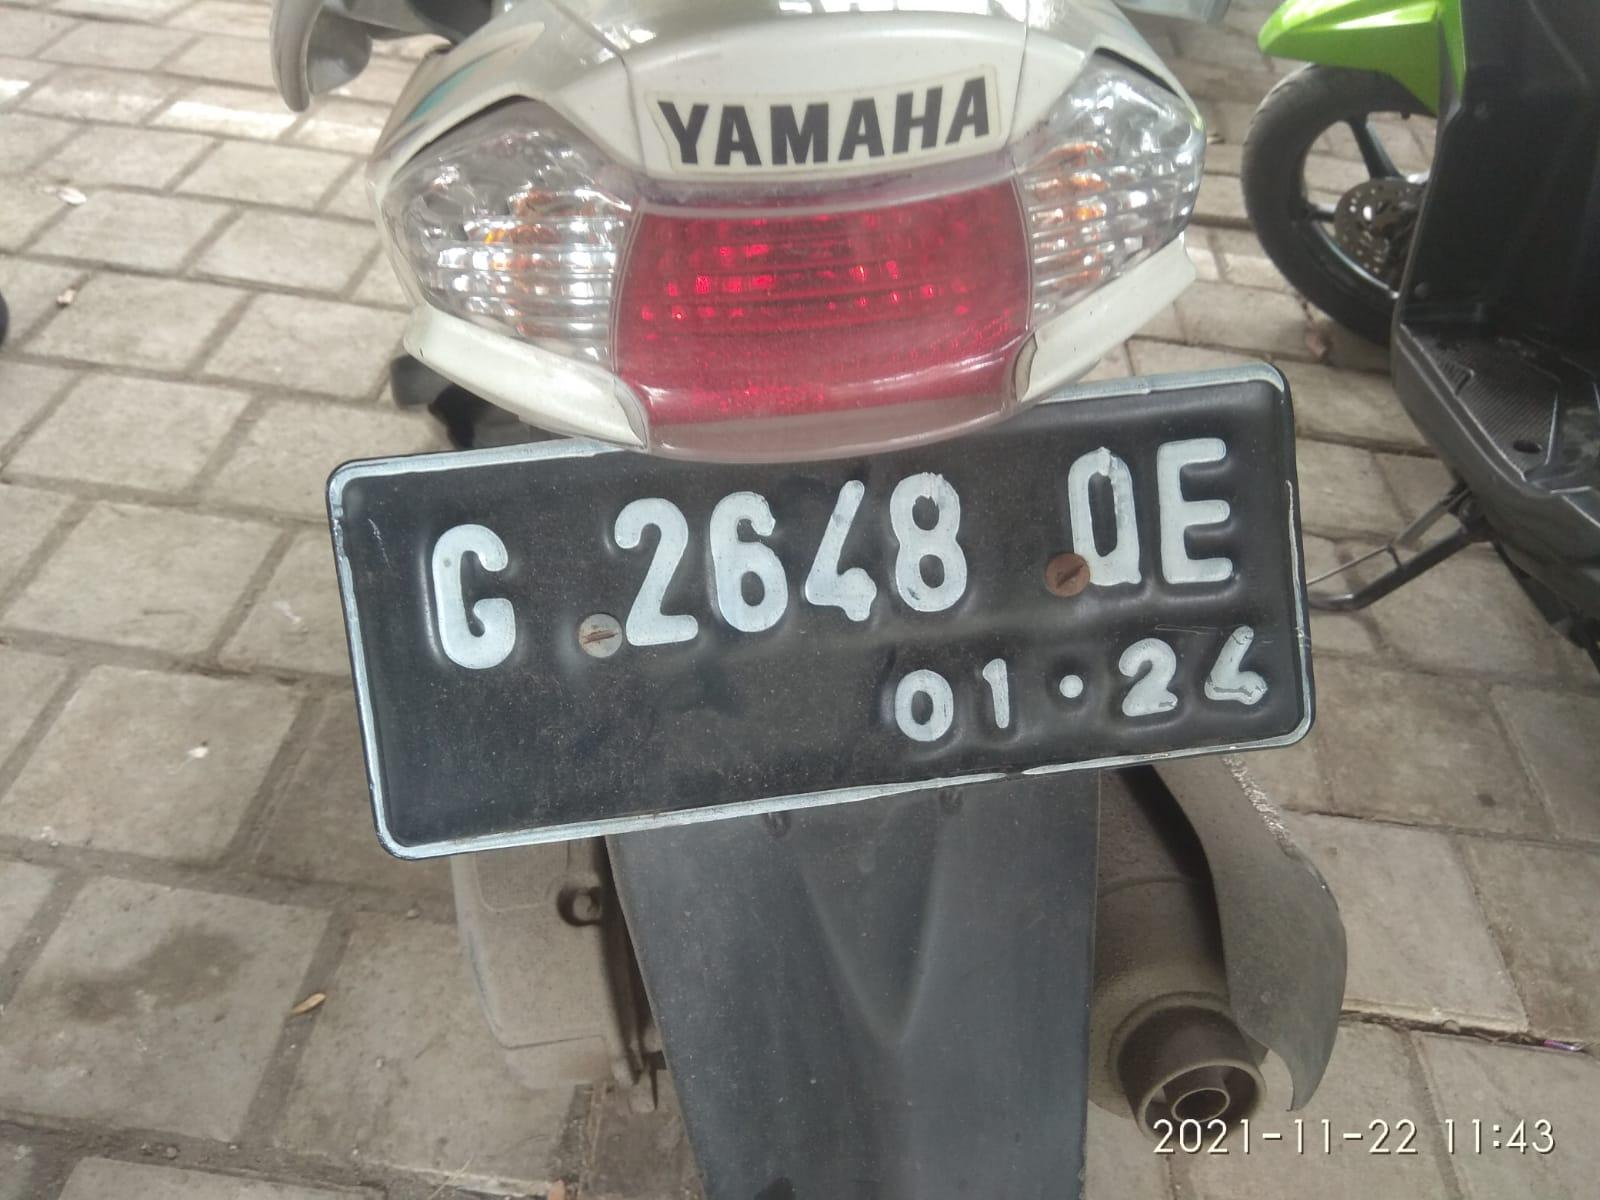plat: (328, 366, 1312, 856)
